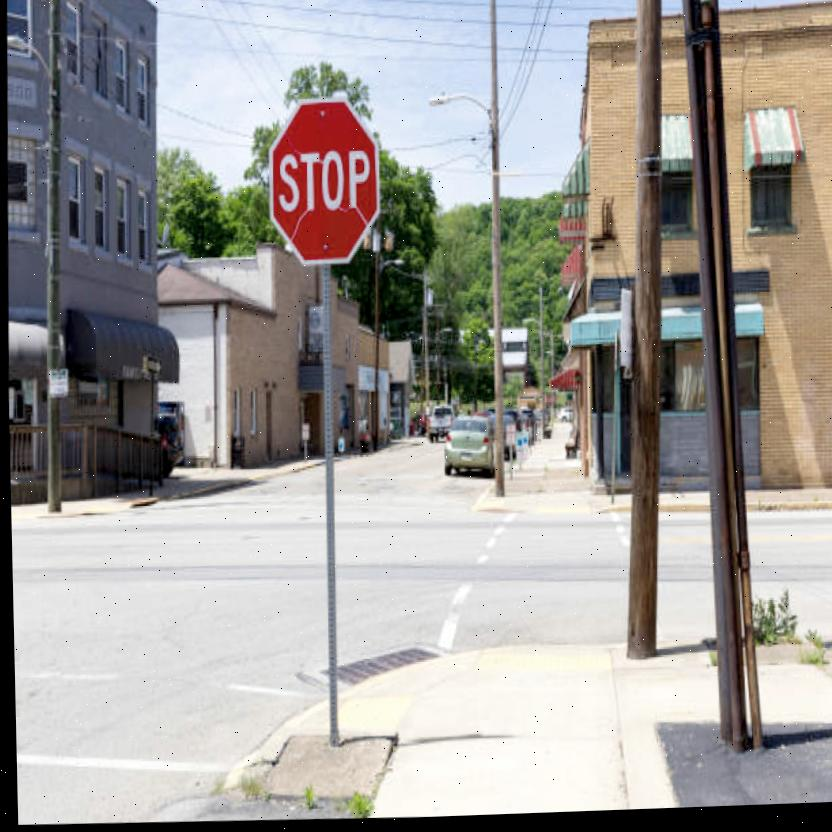Pole: (311, 265, 345, 747)
Sign: (266, 101, 383, 270)
